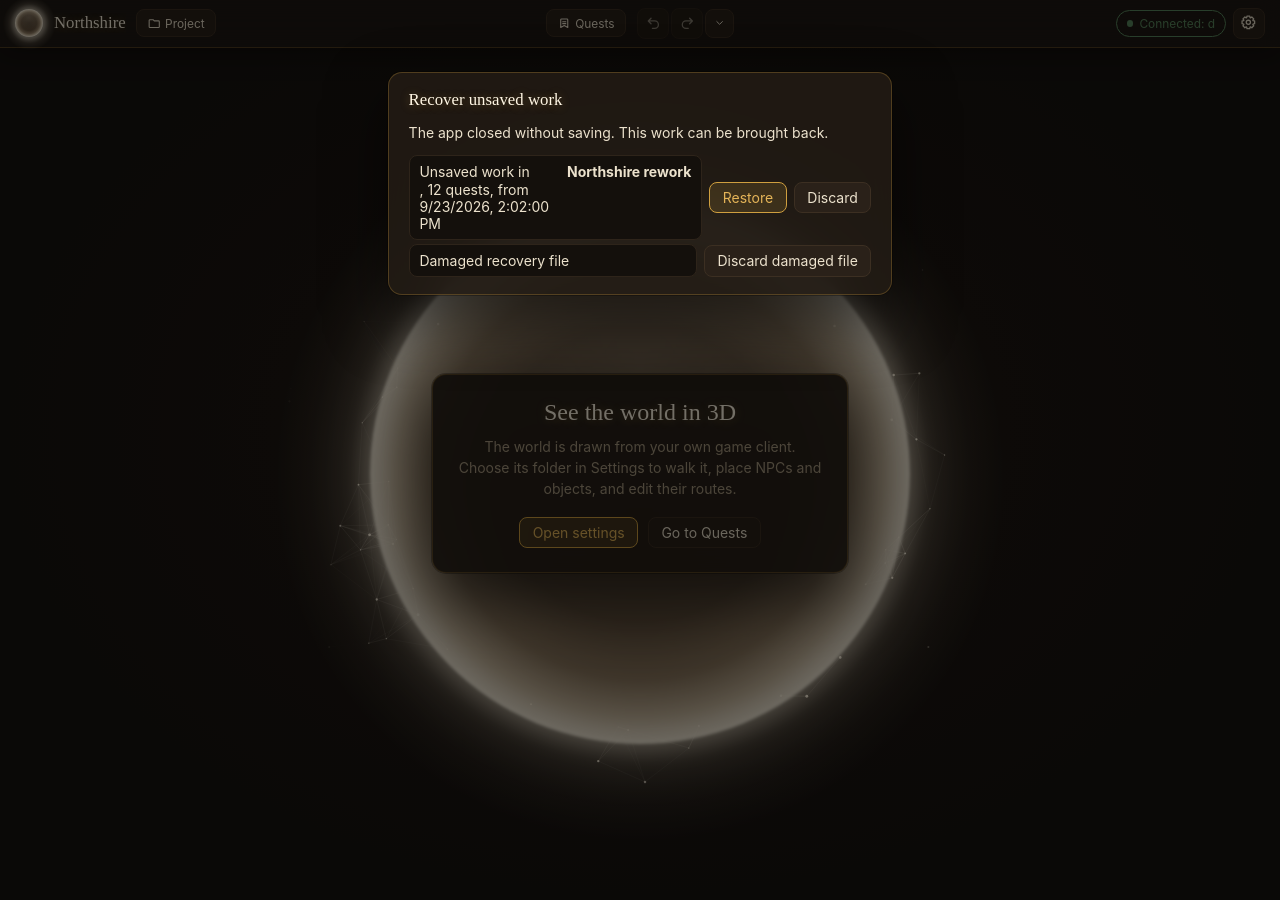
Test: project UI › offers to restore unsaved work left by a crash
Expected: the heading "Northshire" is shown, [54,13,126,33]
Expected: the text "Northshire rework" is shown, [567,163,691,180]
What coordinates should you click on to do the following:
click the button with aria-label "Restore Northshire rework"
I would click on:
 (748, 198)
Its box is [709,182,787,213].
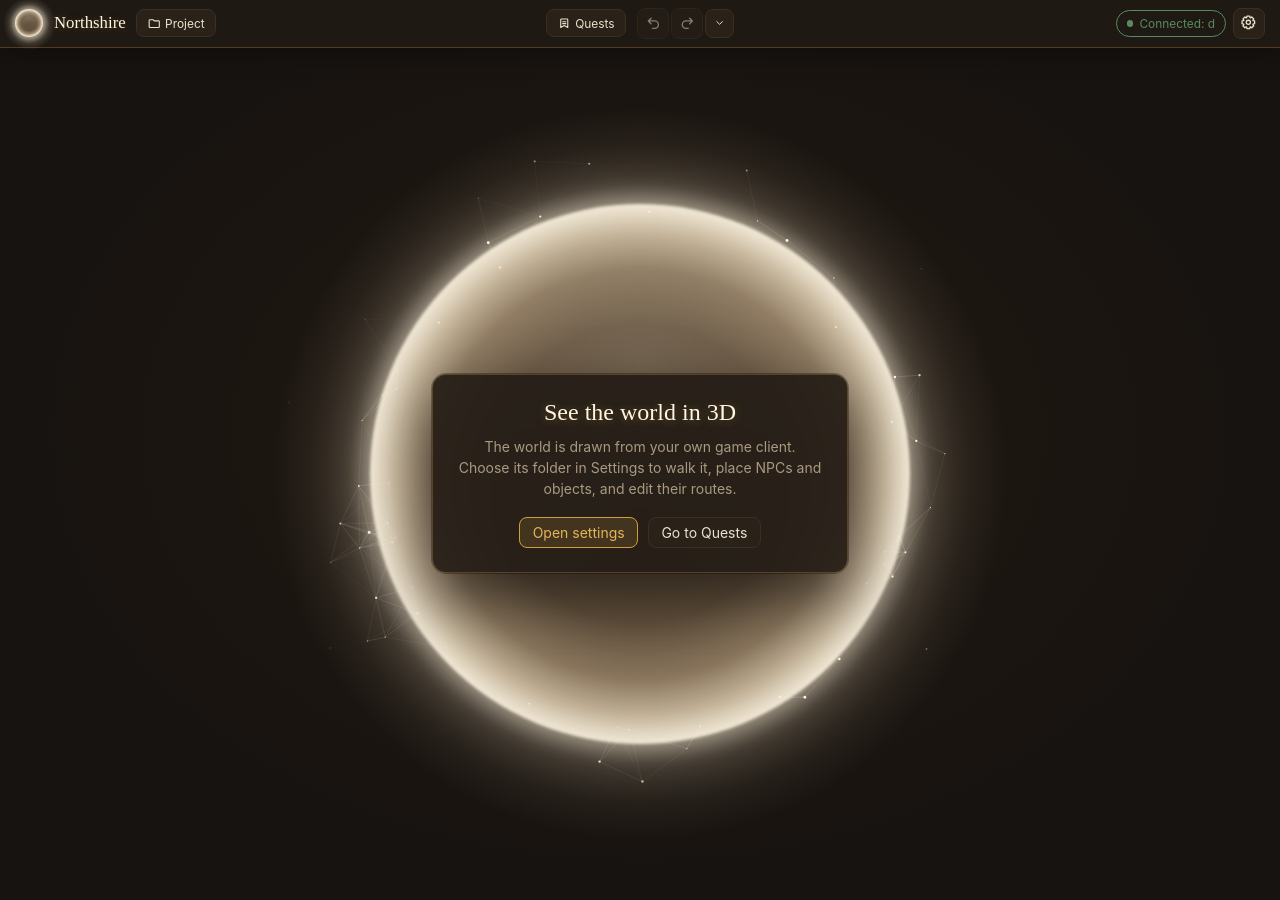
Result: the heading "Recover unsaved work" is gone
